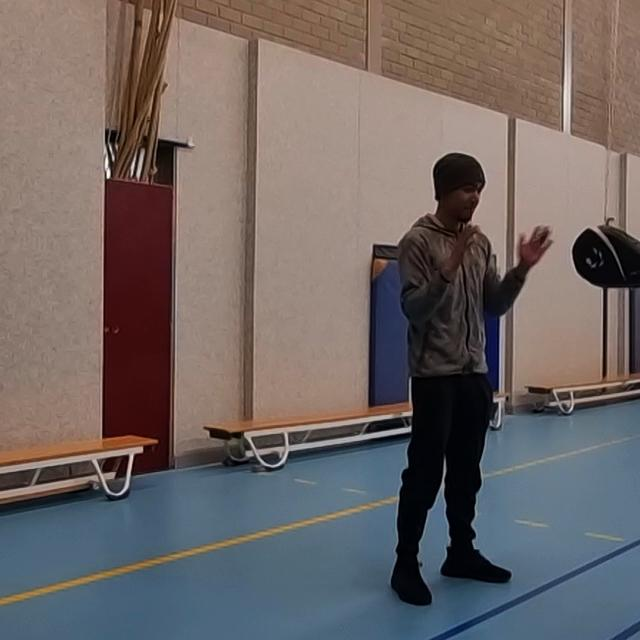paddle: (566, 223, 640, 291)
